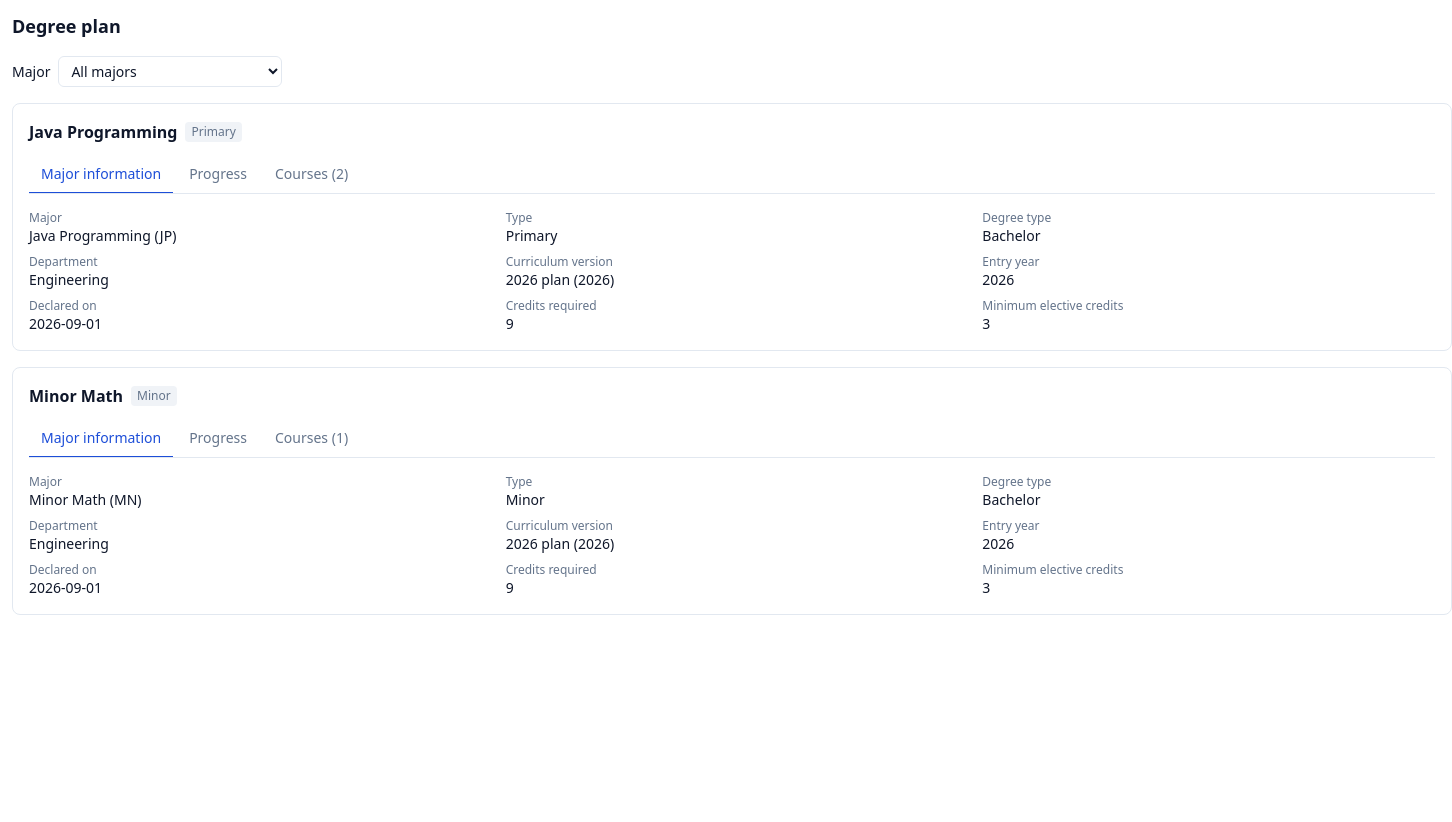
Test: Degree plan (student) › choosing one major shows only its card
This screenshot has width=1452, height=822.
Check: the element "Minor Math" is shown, box [12,367,1451,615]
Select "Minor Math (Minor)" in the dropdown labelled "Major": (170, 72) [58,56,282,87]
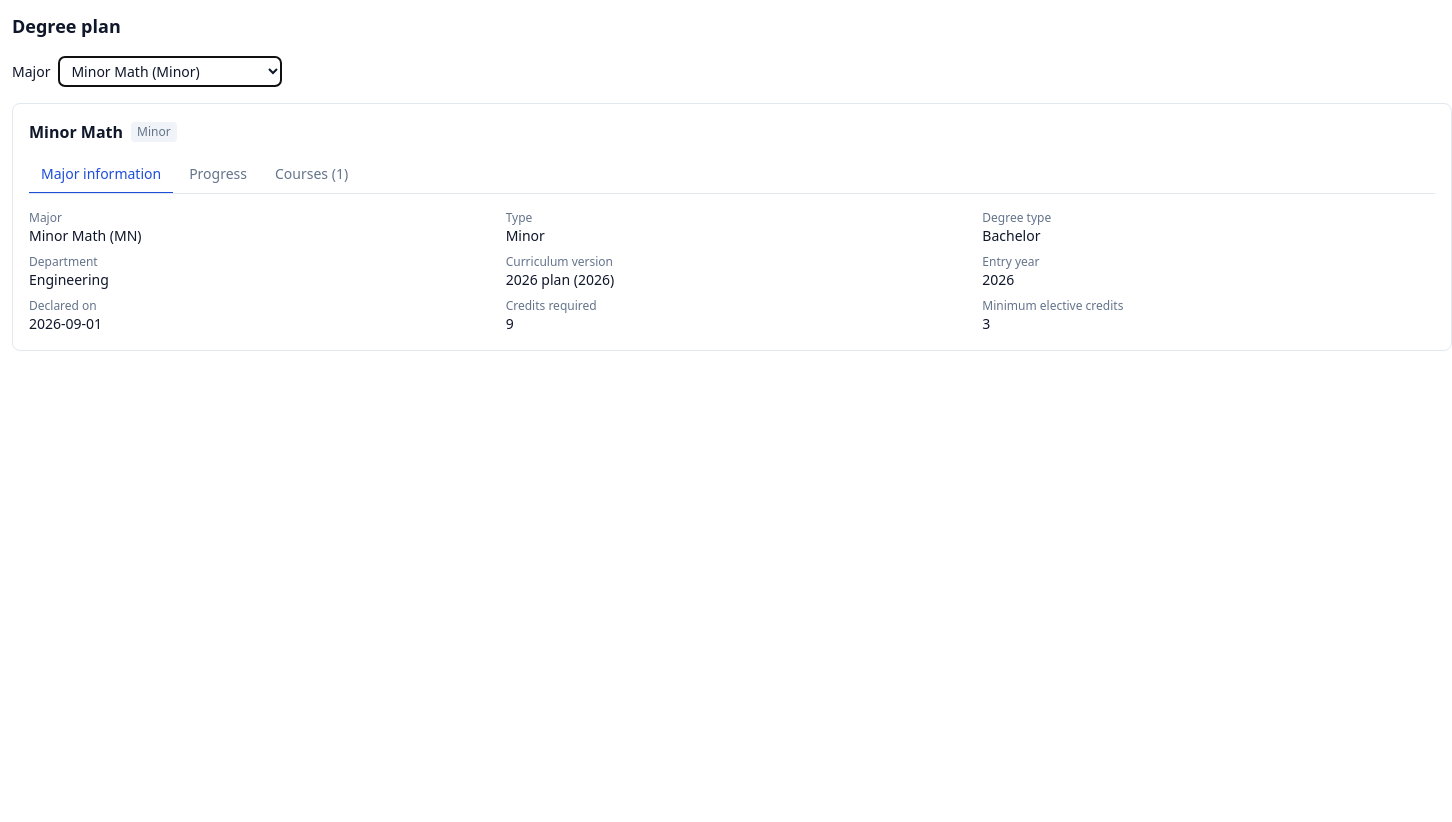
Check: the element "Minor Math" is shown, box [12,103,1451,351]
Check: the heading "Java Programming" is gone
